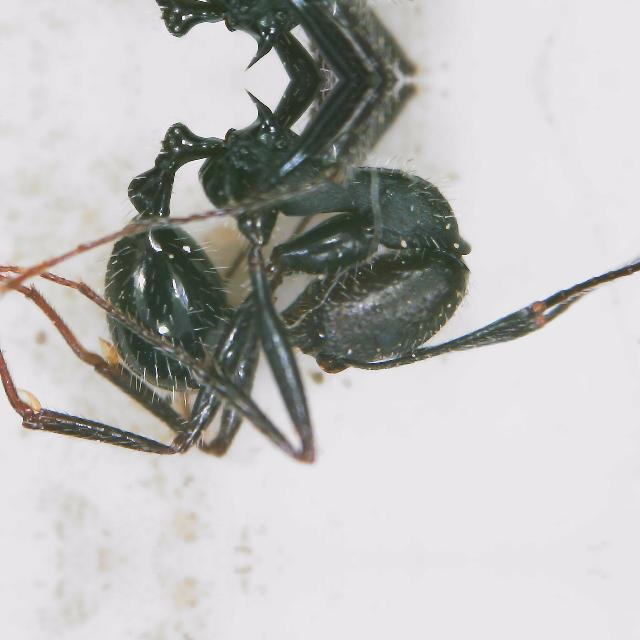Apheanogaster: (2, 80, 618, 532)
